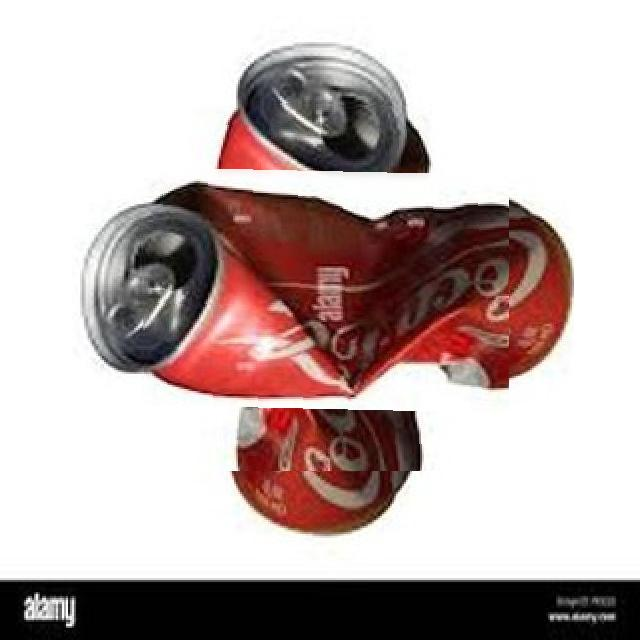recyclable: (138, 100, 509, 471)
